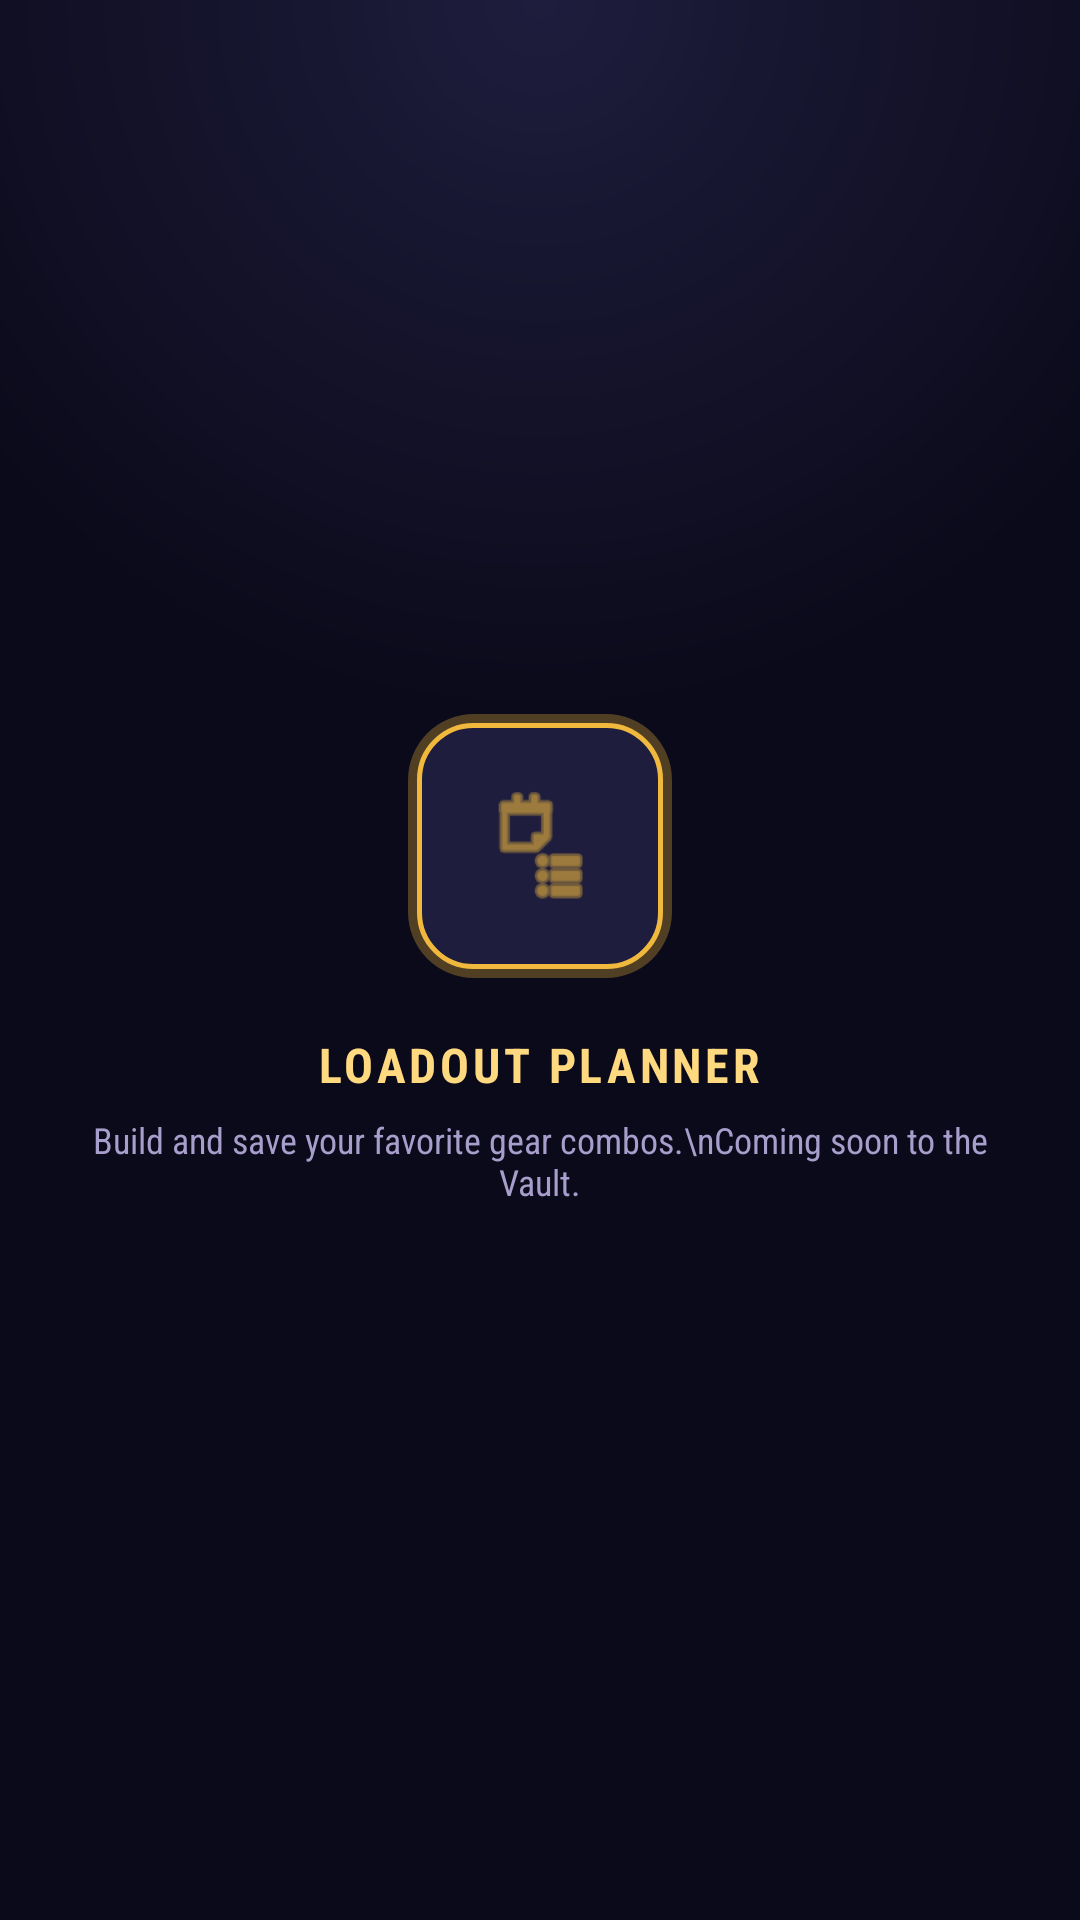

Where to tap for icons on this 1080×1920 app screen, as [x,y]:
agenda: [540,845]
